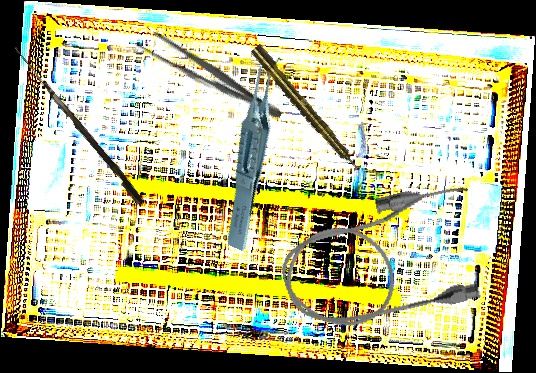Cannula: (270, 176, 494, 343)
Dressing Forceps: (132, 25, 288, 127)
Handpiece: (249, 42, 364, 176)
Hook Surgical: (6, 46, 148, 206)
Tissue Forceps: (188, 51, 324, 253)
